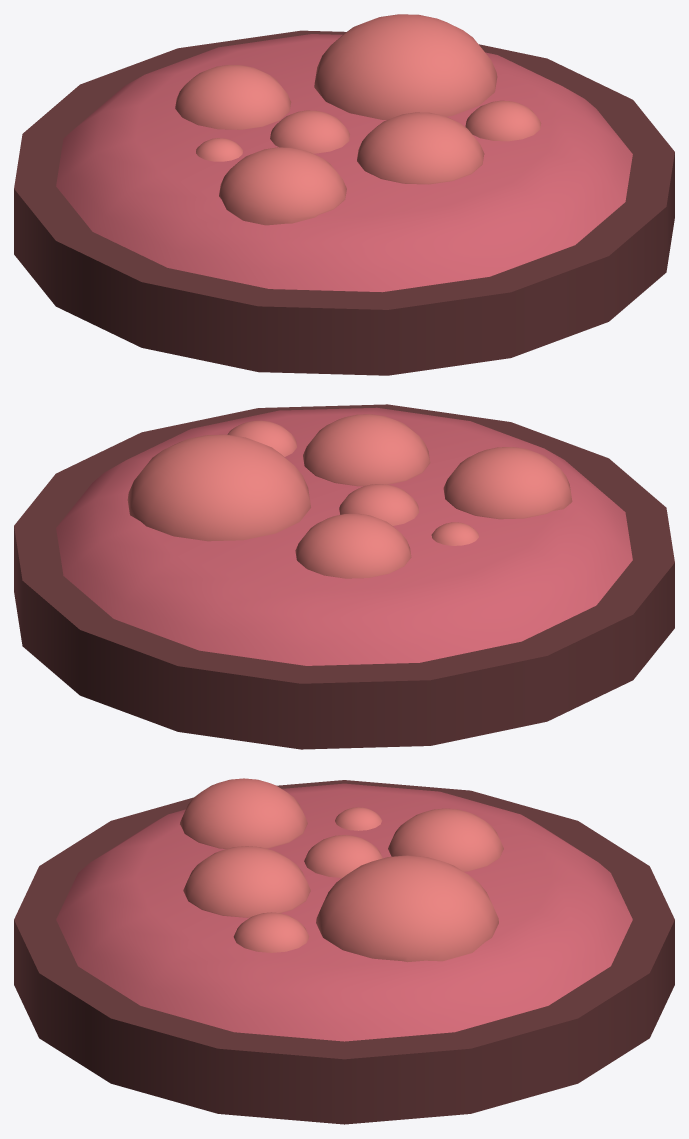
The model's file is carrier.fbx.
The picture shows the model from 3 angles, top to bottom: view 1: azimuth 30°, elevation 25°; view 2: azimuth 150°, elevation 25°; view 3: azimuth 270°, elevation 25°; orthographic projection.
Parts seen in each view (by area): view 1: Cylinder; view 2: Cylinder; view 3: Cylinder.
Boxes of the visible parts, x1,y1,x2,y2 form: Cylinder: [14, 14, 674, 375]; Cylinder: [14, 404, 674, 749]; Cylinder: [14, 778, 674, 1124].
Size of the model in its own units: 200 by 73.42 by 200.
